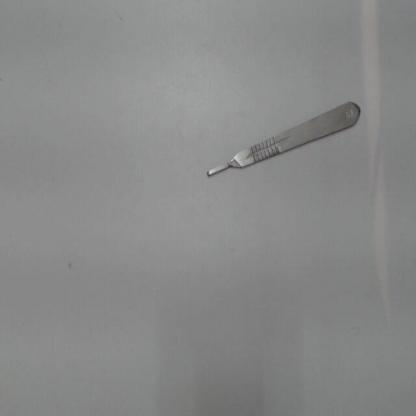No.3 BP Handle: (198, 81, 380, 190)
